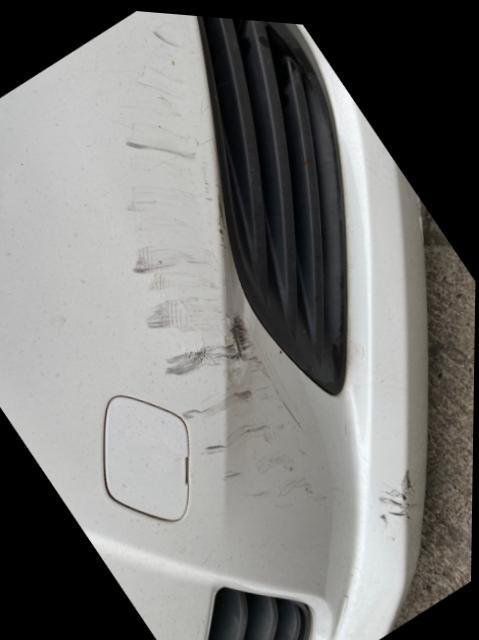scratch: (119, 15, 328, 521), (381, 463, 419, 516)
